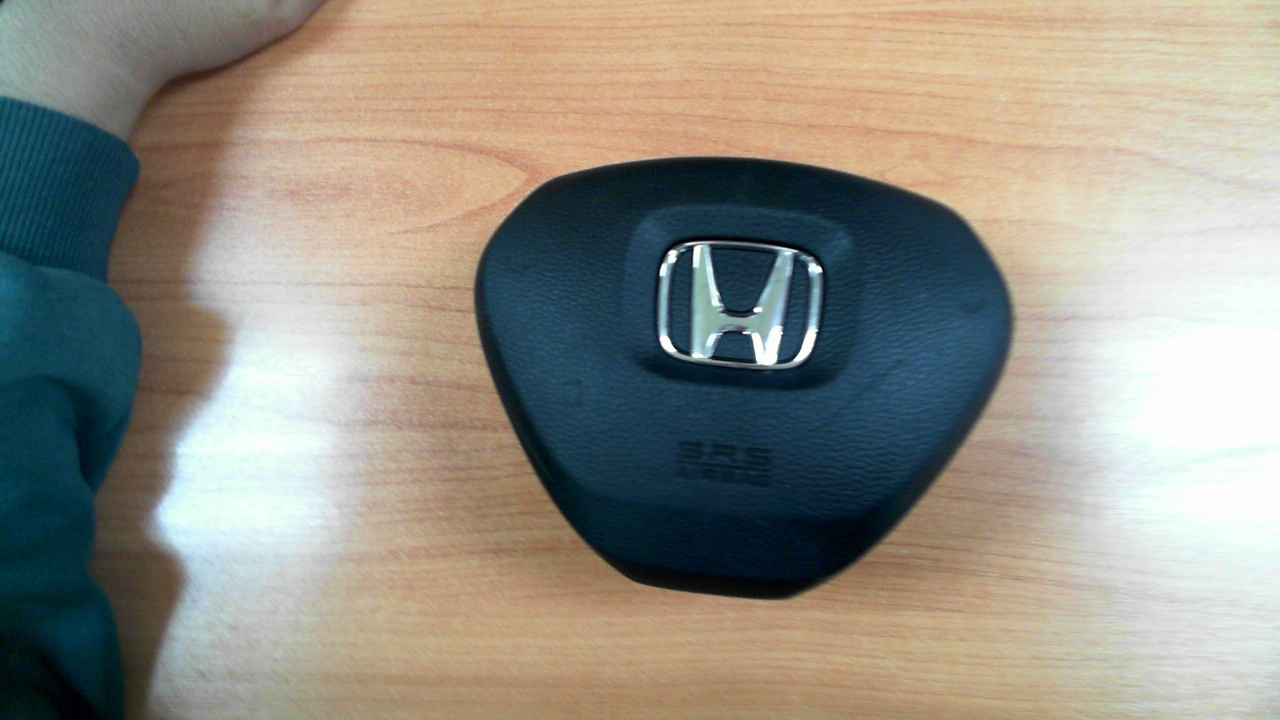Airbag: (473, 157, 1015, 601)
Honda: (658, 240, 824, 370)
